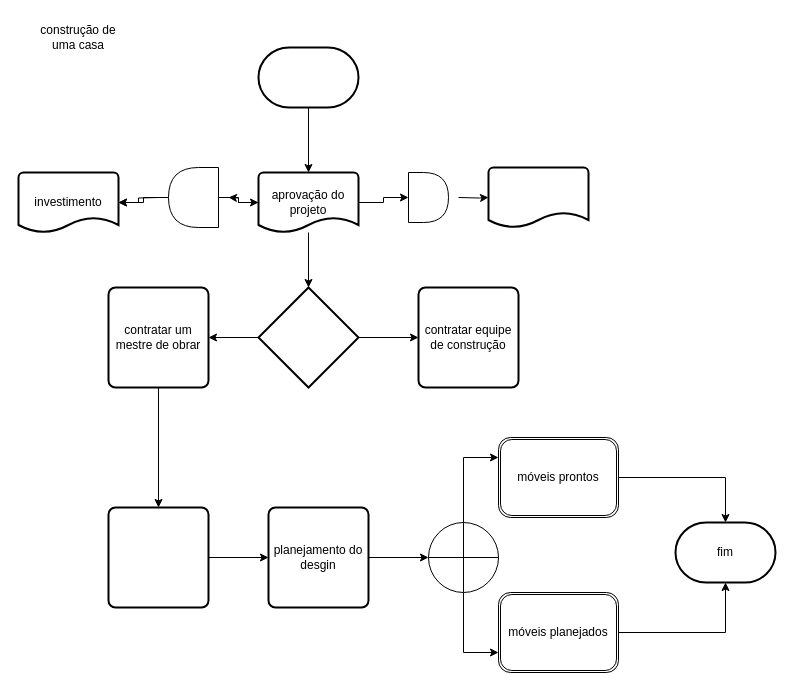
The diagram is 793 pixels wide and 690 high, and some of its shapes have lost their labels. Here are the shapes that lost their labels. From the top down, the centre of each, then its label:
(x=308, y=77): inicio
(x=538, y=197): terreno
(x=308, y=337): constratar construtora?
(x=158, y=557): construir
